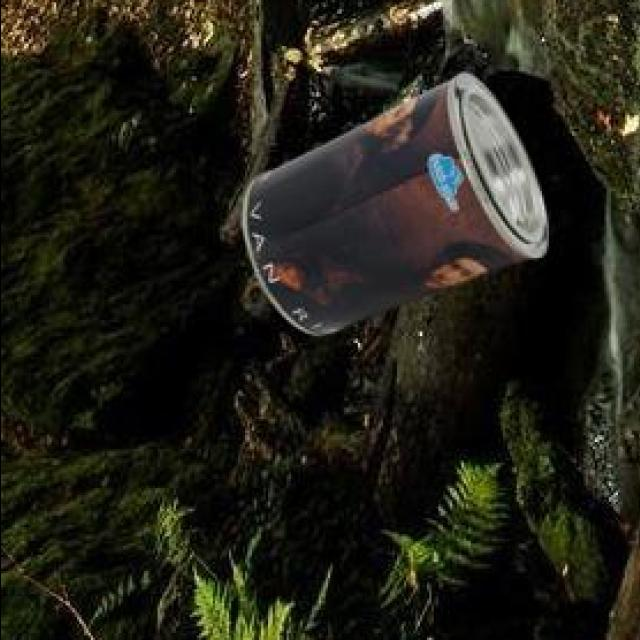logam: (238, 77, 544, 337)
